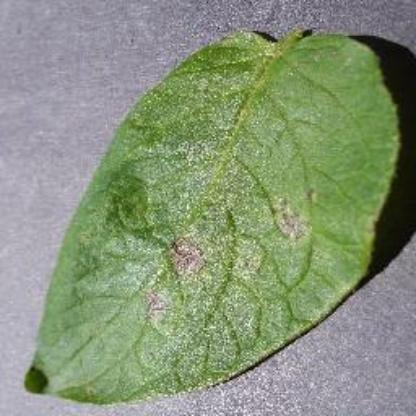Early-Blight: (22, 25, 404, 406)
